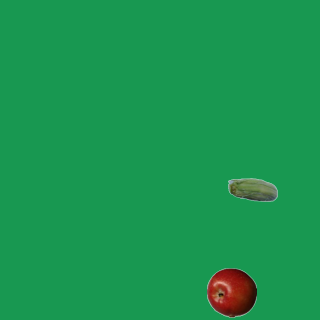Apple Braeburn: (206, 267, 256, 317)
Corn Husk: (227, 166, 277, 216)
